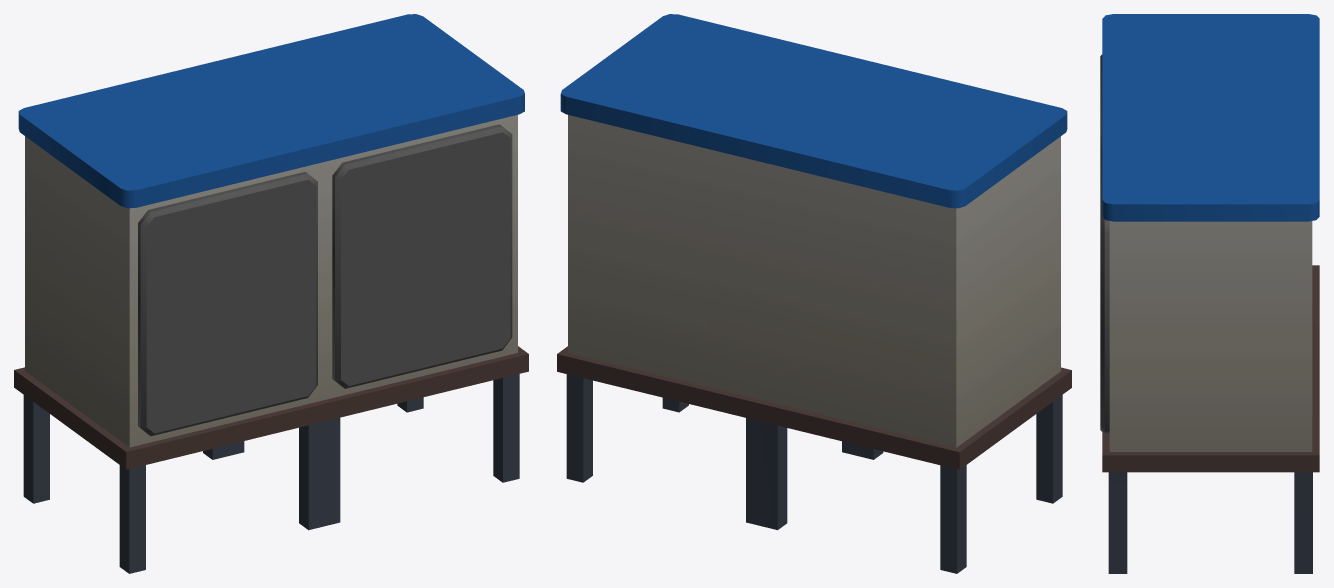
The model's file is ElectricBox_1_B_2.fbx.
3 renders of one model, left to right at view 1: azimuth 30°, elevation 25°; view 2: azimuth 150°, elevation 25°; view 3: azimuth 270°, elevation 25°, orthographic. The views are drawn at different scales.
Visible parts, largest first — view 1: ElectricBox_1_B_2; view 2: ElectricBox_1_B_2; view 3: ElectricBox_1_B_2.
Part boxes in pixels (x1,y1,x2,y2): ElectricBox_1_B_2: [14, 14, 528, 573]; ElectricBox_1_B_2: [557, 14, 1071, 573]; ElectricBox_1_B_2: [1100, 14, 1319, 573].
Size of the model in its own units: 251 by 229 by 122.
